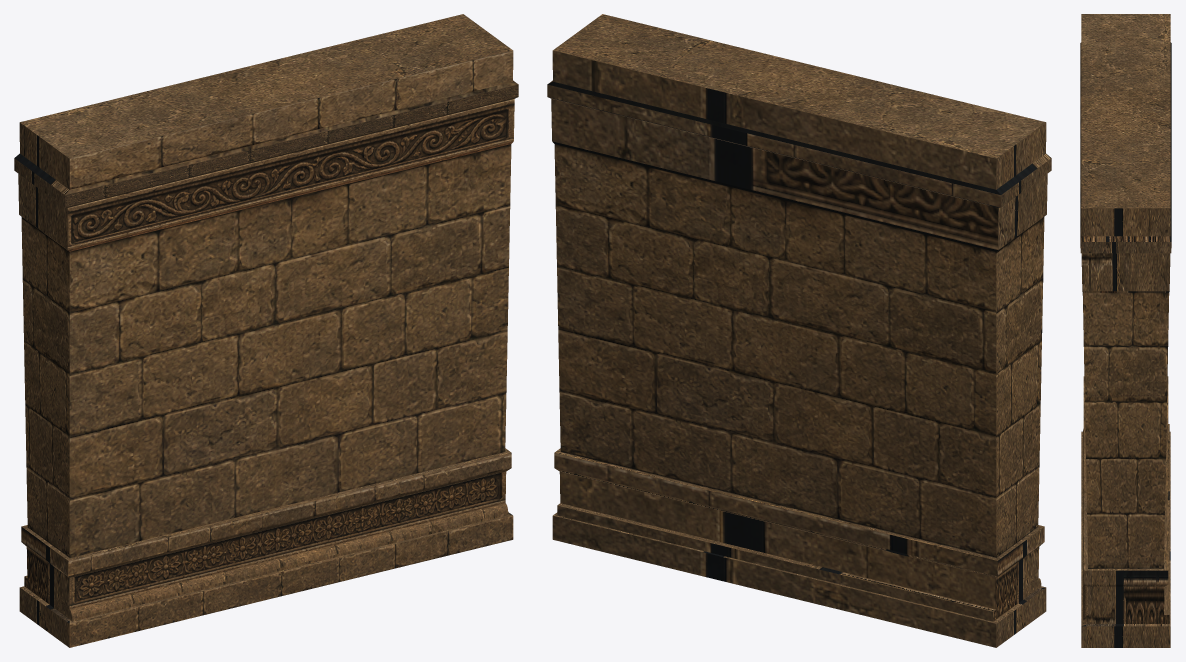
File: WALL TEST AA AA.fbx
The picture shows the model from 3 angles, left to right: view 1: azimuth 30°, elevation 25°; view 2: azimuth 150°, elevation 25°; view 3: azimuth 270°, elevation 25°; orthographic projection. The views are drawn at different scales.
Visible parts, largest first — view 1: plain wall a; view 2: plain wall a; view 3: plain wall a.
Boxes of the visible parts, box(x1,y1,x2,y2) form: plain wall a: box(14, 14, 518, 647); plain wall a: box(547, 14, 1051, 647); plain wall a: box(1080, 14, 1171, 647).
Bounding box in the file's own units: 391 × 75.78 × 403.
